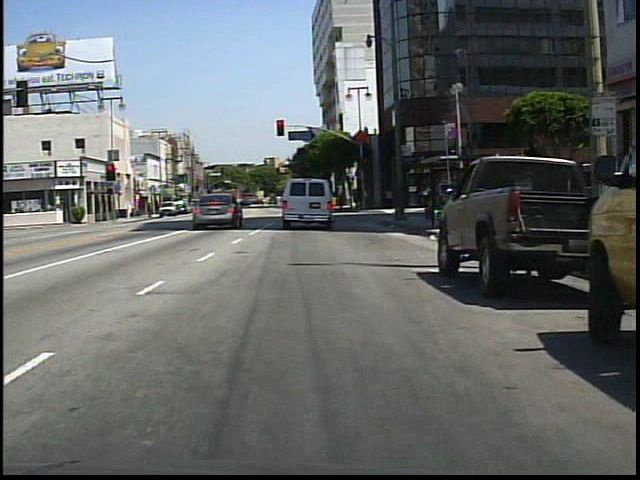person: (313, 183, 333, 223), (221, 193, 235, 218)
